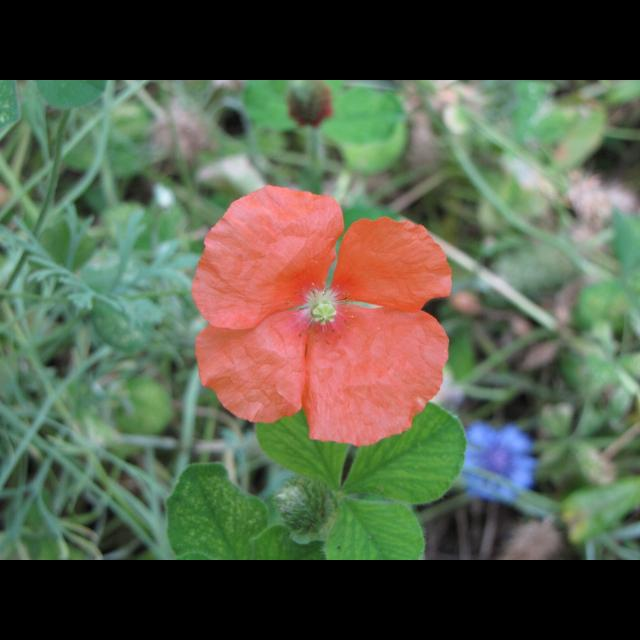Flower: (190, 188, 458, 460), (461, 421, 539, 507)
